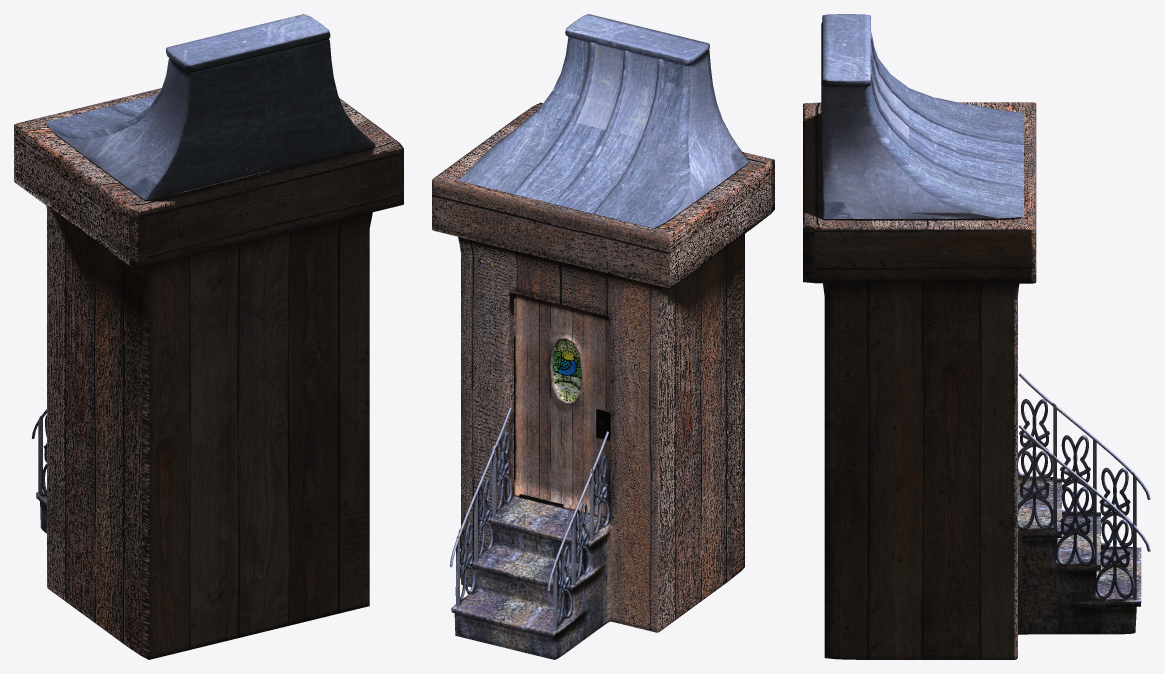
Rendered from doorway.fbx.
3 renders of one model, left to right at view 1: azimuth 30°, elevation 25°; view 2: azimuth 150°, elevation 25°; view 3: azimuth 270°, elevation 25°, orthographic. The views are drawn at different scales.
Visible parts, largest first — view 1: BezierCurve.001; view 2: BezierCurve.001; view 3: BezierCurve.001.
Boxes of the visible parts, left/top/right/bottom form: BezierCurve.001: left=14, top=14, right=403, bottom=659; BezierCurve.001: left=432, top=14, right=774, bottom=659; BezierCurve.001: left=803, top=14, right=1150, bottom=659.
Bounding box in the file's own units: 2.71 × 5.57 × 3.13.
1 material, 1 textured.
